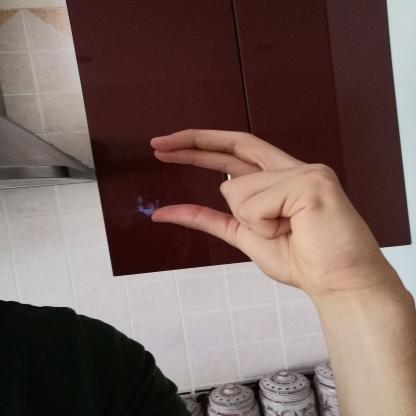DHELL: (136, 116, 388, 302)
